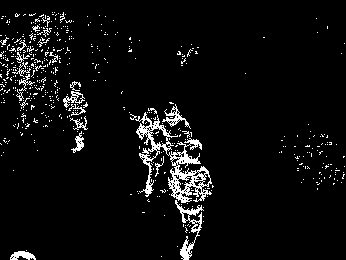person: (167, 141, 215, 260), (163, 100, 193, 185), (138, 106, 166, 197), (61, 81, 90, 155)
